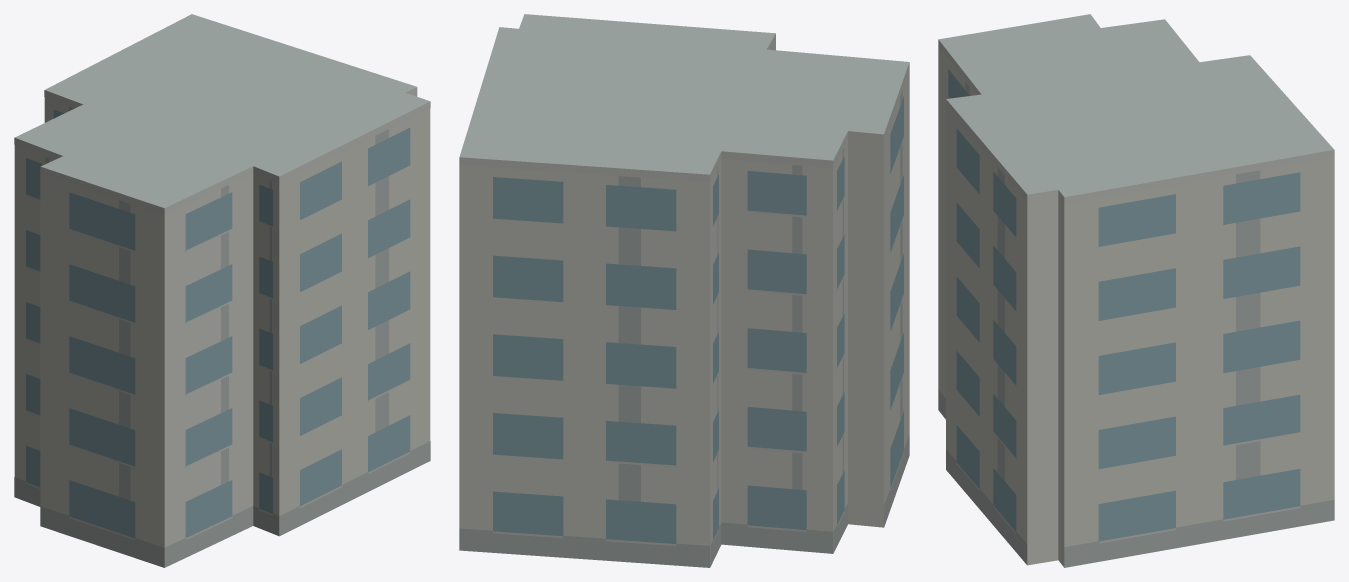
Rendered from survey-upis-32852247.glb.
3 renders of one model, left to right at view 1: azimuth 30°, elevation 25°; view 2: azimuth 150°, elevation 25°; view 3: azimuth 270°, elevation 25°, orthographic. The views are drawn at different scales.
Parts seen in each view (by area): view 1: survey-upis-32852247.tmp; view 2: survey-upis-32852247.tmp; view 3: survey-upis-32852247.tmp.
Boxes of the visible parts, x1,y1,x2,y2 form: survey-upis-32852247.tmp: (14,14,430,567); survey-upis-32852247.tmp: (459,14,909,567); survey-upis-32852247.tmp: (938,14,1334,567).
Bounding box in the file's own units: 13.08 × 12.33 × 11.95.
